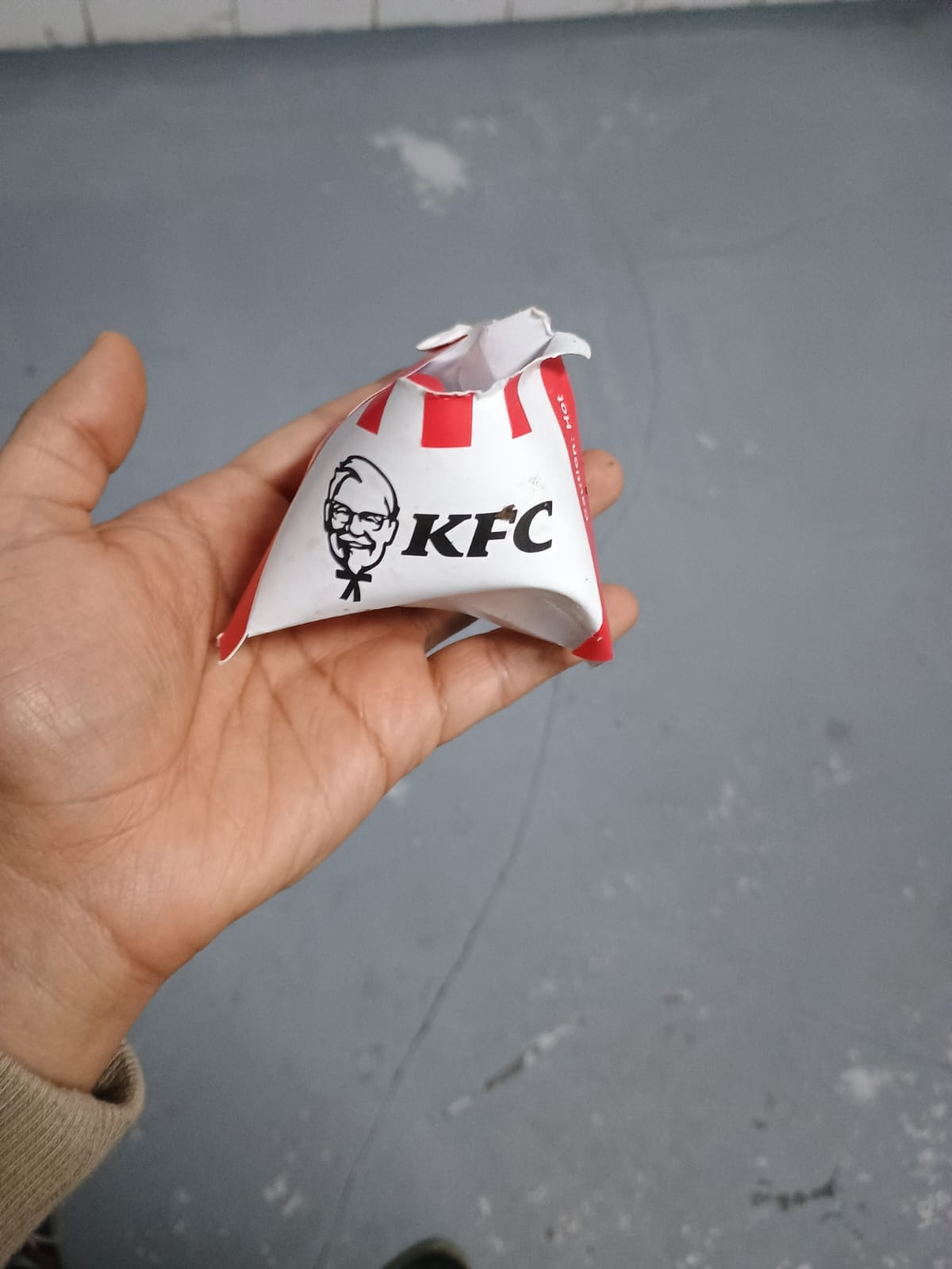Carton: (216, 306, 613, 660)
